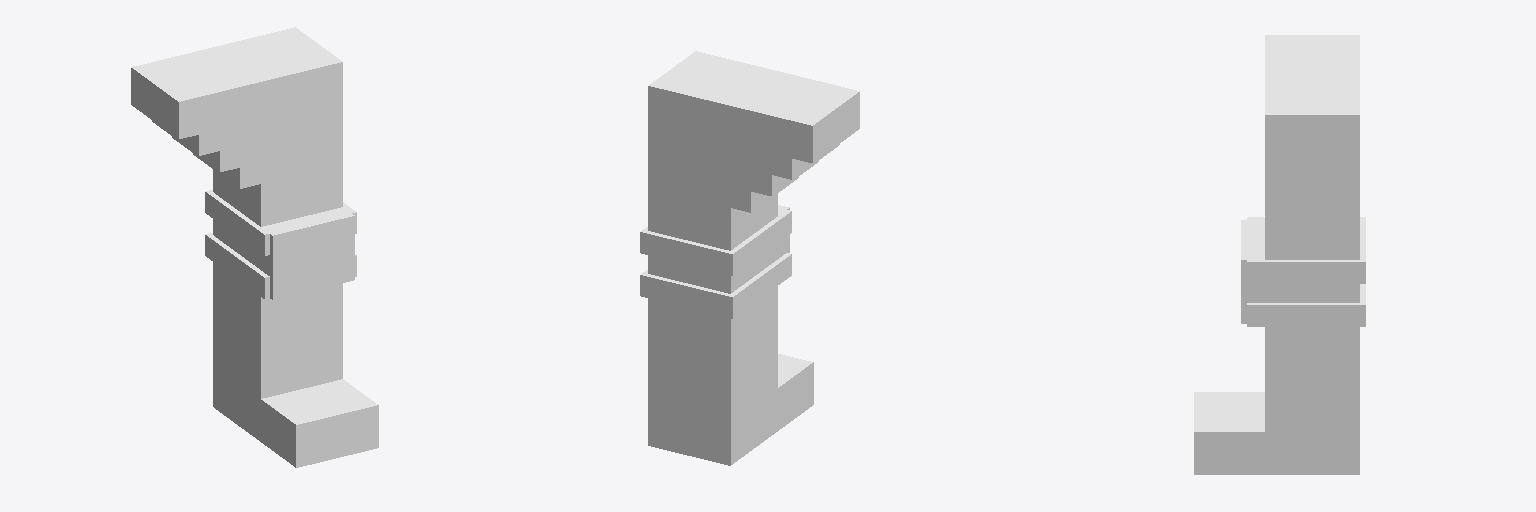
The model's file is TEnemy-0.obj.
3 views of the same model, side by side, from view 1: azimuth 30°, elevation 25°; view 2: azimuth 150°, elevation 25°; view 3: azimuth 270°, elevation 25° (orthographic).
Parts seen in each view (by area): view 1: object 1; view 2: object 1; view 3: object 1.
Boxes of the visible parts, <box> form: object 1: <box>131,27,378,467</box>; object 1: <box>640,51,859,465</box>; object 1: <box>1194,35,1365,474</box>.
Bounding box in the file's own units: 3.3 × 6.7 × 2.9.